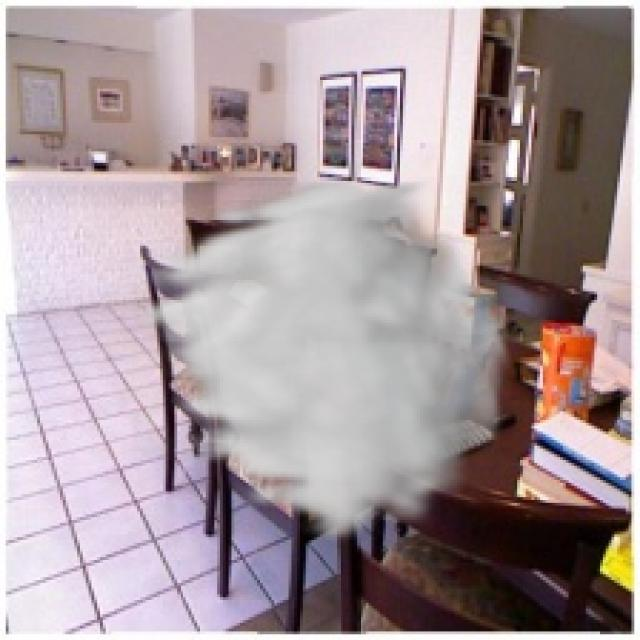smoke: (120, 174, 517, 546)
